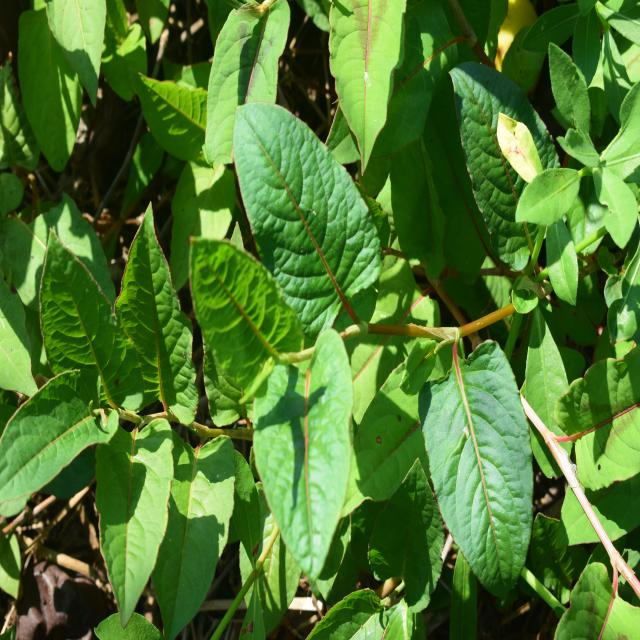Chinese_knotweed: (198, 126, 388, 533), (6, 200, 202, 585)
